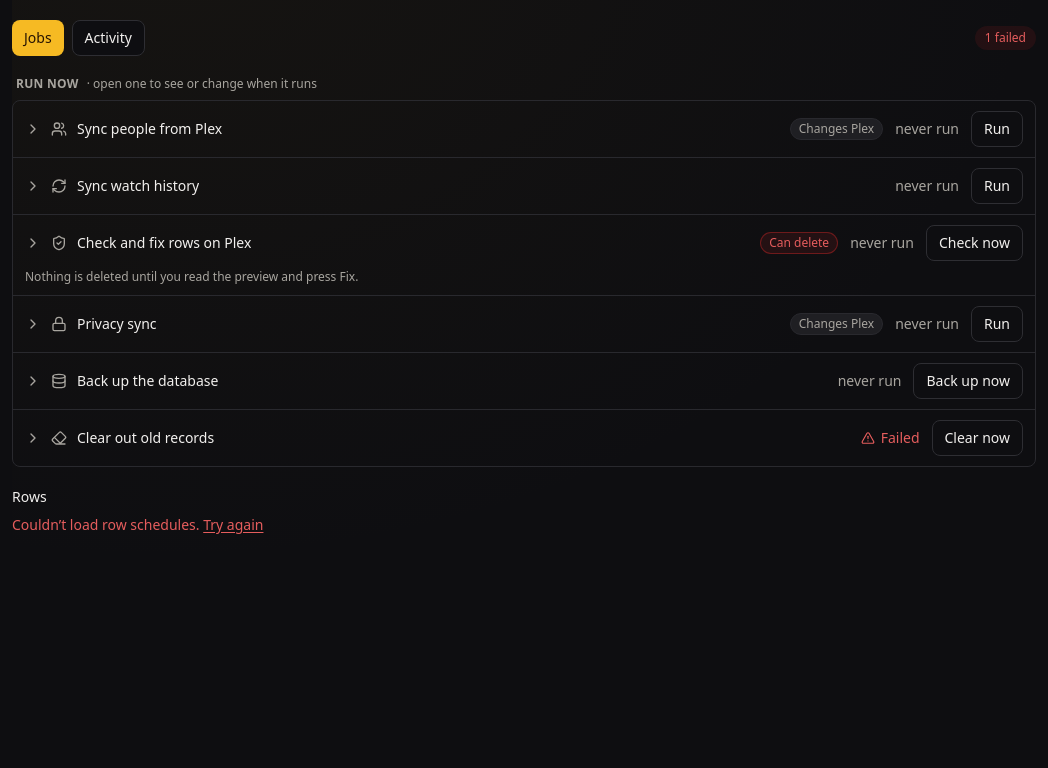
Test: JobsPage — sync check › gives a failed prune somewhere to click, not just a number in the header
The width and height of the screenshot is (1048, 768).
Expected: the button "1 failed" is shown, [975, 26, 1036, 50]
Expected: the element with test id "job-maintenance.prune" shows "Failed", [881, 428, 920, 447]
What coordinates should you click on to do the following:
click the button "Clear out old records"
I would click on:
 (146, 438)
Its box is [25, 428, 849, 448].
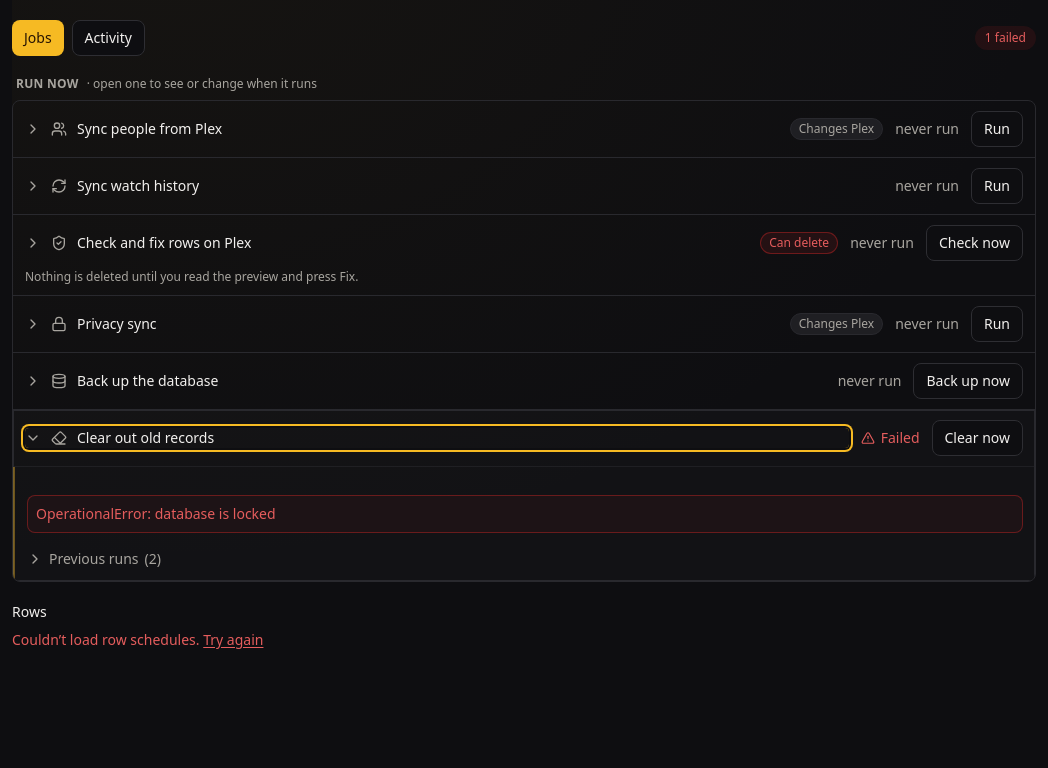
Expected: the element with test id "job-maintenance.prune" shows "database is locked", [36, 504, 276, 523]
